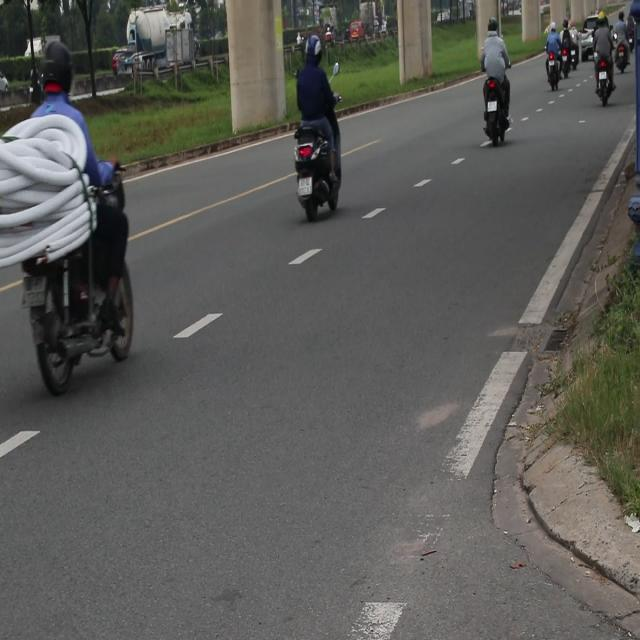car: (578, 27, 596, 62)
motorbike: (19, 211, 153, 396), (294, 124, 341, 220), (479, 73, 515, 148), (590, 60, 613, 105), (541, 54, 560, 96), (564, 39, 580, 73), (561, 42, 572, 88), (616, 43, 627, 79), (628, 23, 636, 61)
truck: (154, 18, 211, 95)
